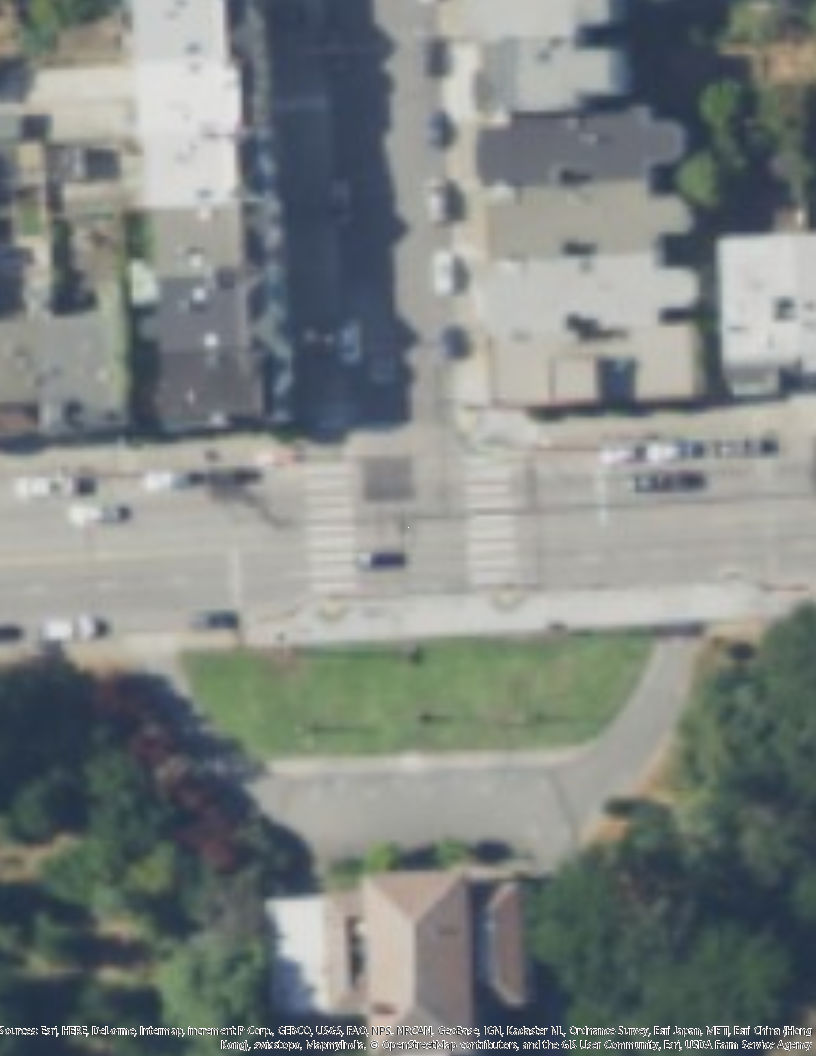zebracross: (464, 460, 520, 588), (304, 461, 357, 595)
